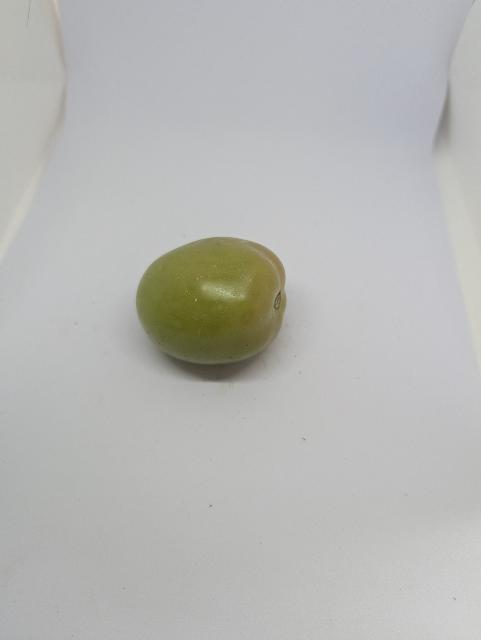green: (121, 218, 321, 383)
